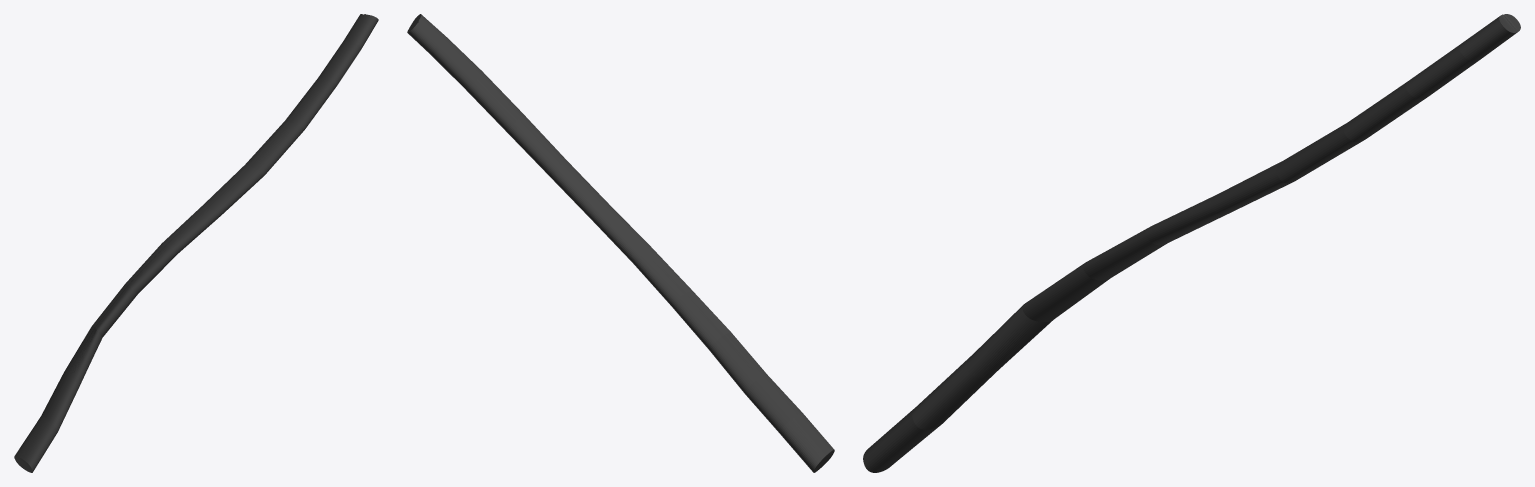
The model's file is N_9_glossopharnygeal_minor_petrosal.glb.
The picture shows the model from 3 angles, left to right: view 1: azimuth 30°, elevation 25°; view 2: azimuth 150°, elevation 25°; view 3: azimuth 330°, elevation 25°; orthographic projection. The views are drawn at different scales.
Parts seen in each view (by area): view 1: N_9_glossopharnygeal_minor_petrosal; view 2: N_9_glossopharnygeal_minor_petrosal; view 3: N_9_glossopharnygeal_minor_petrosal.
Part boxes in pixels (x1,y1,x2,y2): N_9_glossopharnygeal_minor_petrosal: (14, 14, 378, 472); N_9_glossopharnygeal_minor_petrosal: (407, 14, 834, 472); N_9_glossopharnygeal_minor_petrosal: (863, 14, 1520, 472).
Bounding box in the file's own units: 0.014 × 0.0126 × 0.00236.
1 material, 1 textured.
